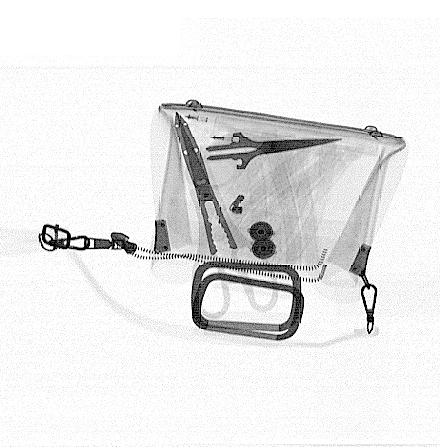Scissors: (175, 113, 278, 318), (177, 117, 345, 190)
